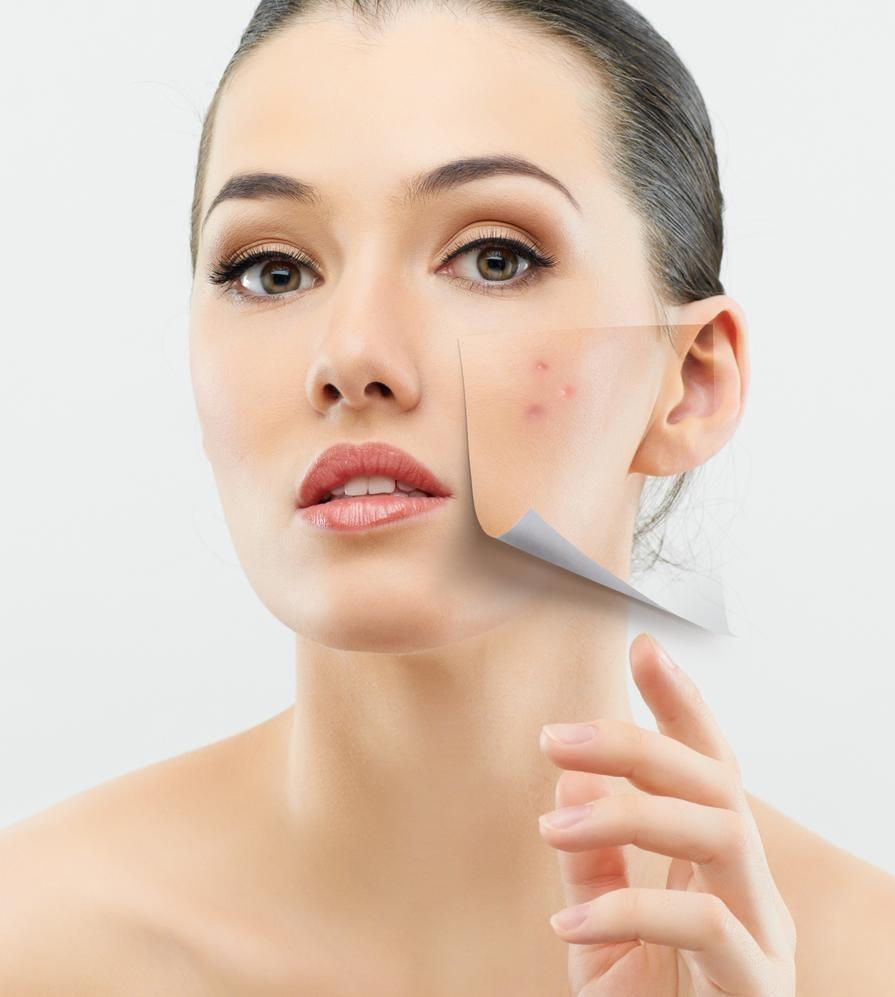Acne: (509, 347, 592, 437)
